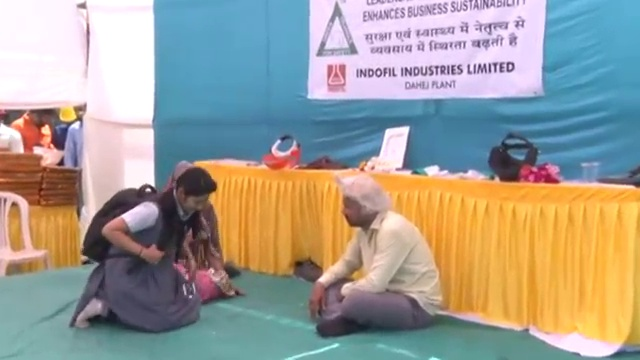helmet: (32, 146, 63, 166), (58, 107, 77, 123), (0, 102, 9, 117)
helmet_off: (333, 178, 387, 239), (162, 168, 217, 221), (27, 108, 54, 128), (73, 104, 87, 123)
helmet_on: (57, 107, 77, 128), (0, 102, 10, 129)
person: (62, 165, 227, 338), (303, 173, 444, 337), (176, 208, 241, 307), (10, 106, 52, 155), (63, 103, 87, 170), (0, 101, 24, 156), (52, 107, 77, 150)
